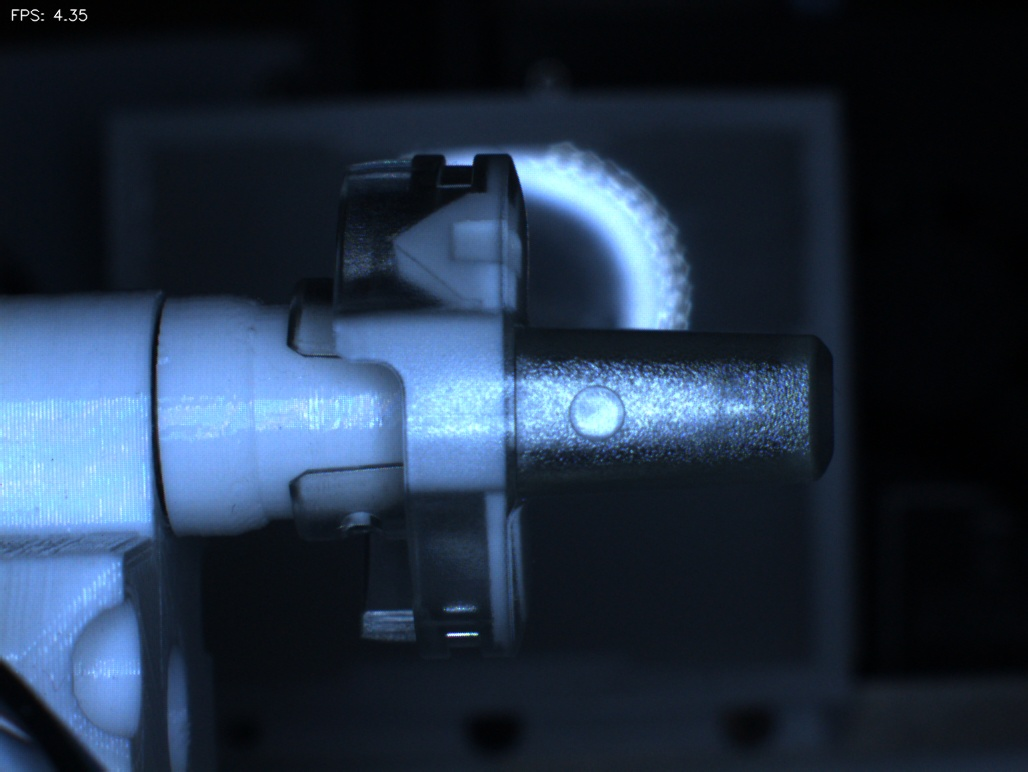DentOk: (355, 212, 447, 300)
